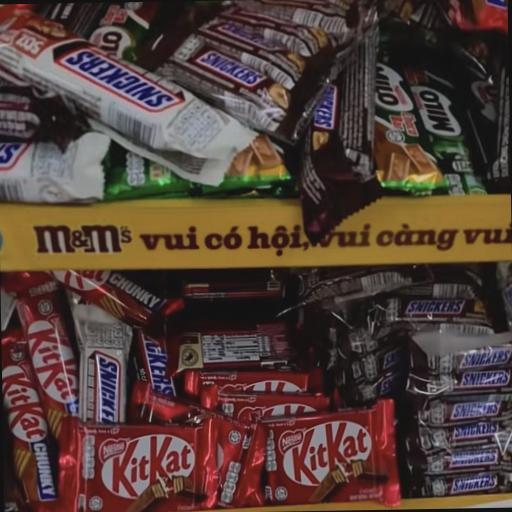kitkat: (242, 407, 464, 512), (30, 391, 221, 512)
